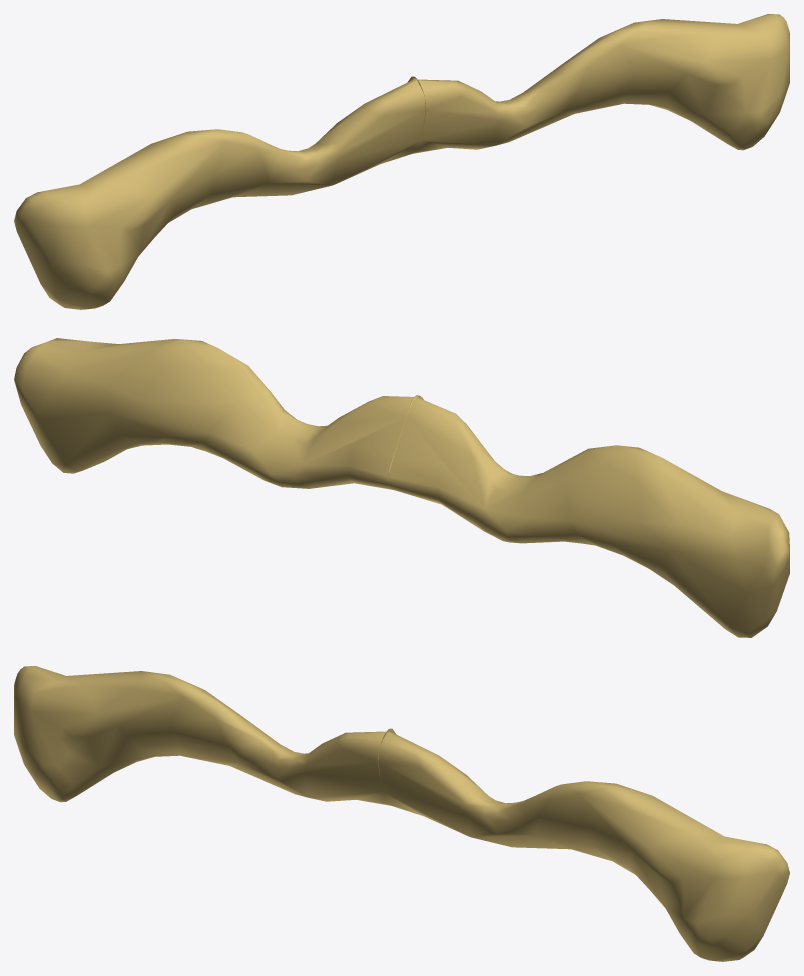
3 views of the same model, one above another, from view 1: azimuth 30°, elevation 25°; view 2: azimuth 150°, elevation 25°; view 3: azimuth 330°, elevation 25° (orthographic).
Visible parts, largest first — view 1: 前连合; view 2: 前连合; view 3: 前连合.
Boxes of the visible parts, left/top/right/bottom form: 前连合: left=14, top=14, right=789, bottom=309; 前连合: left=14, top=338, right=789, bottom=637; 前连合: left=14, top=666, right=789, bottom=961.
Bounding box in the file's own units: 0.0351 × 0.00666 × 0.00369.
